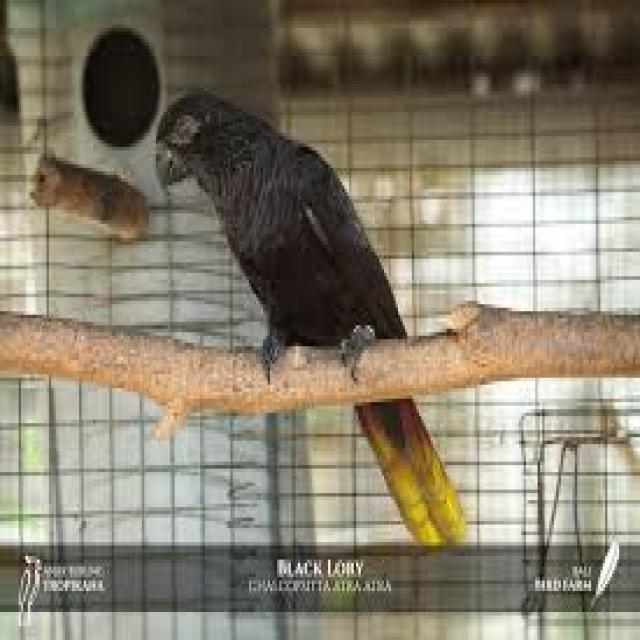Nuri Hitam: (142, 84, 465, 543)
